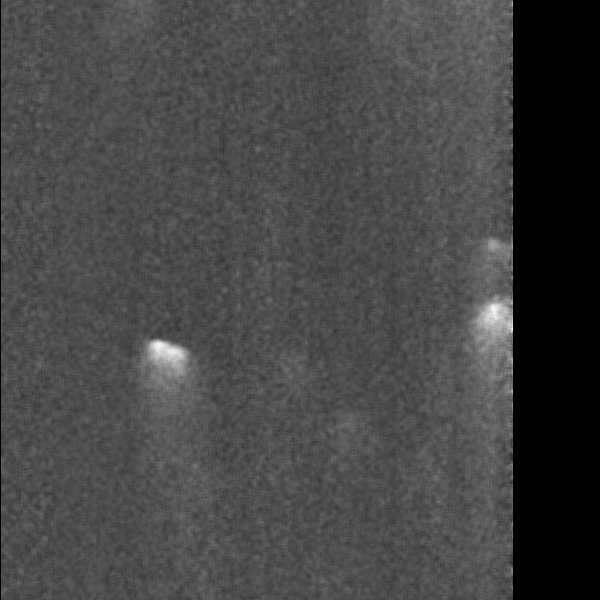spark: (135, 334, 183, 435), (476, 295, 513, 380), (330, 410, 363, 443), (397, 1, 416, 48)
